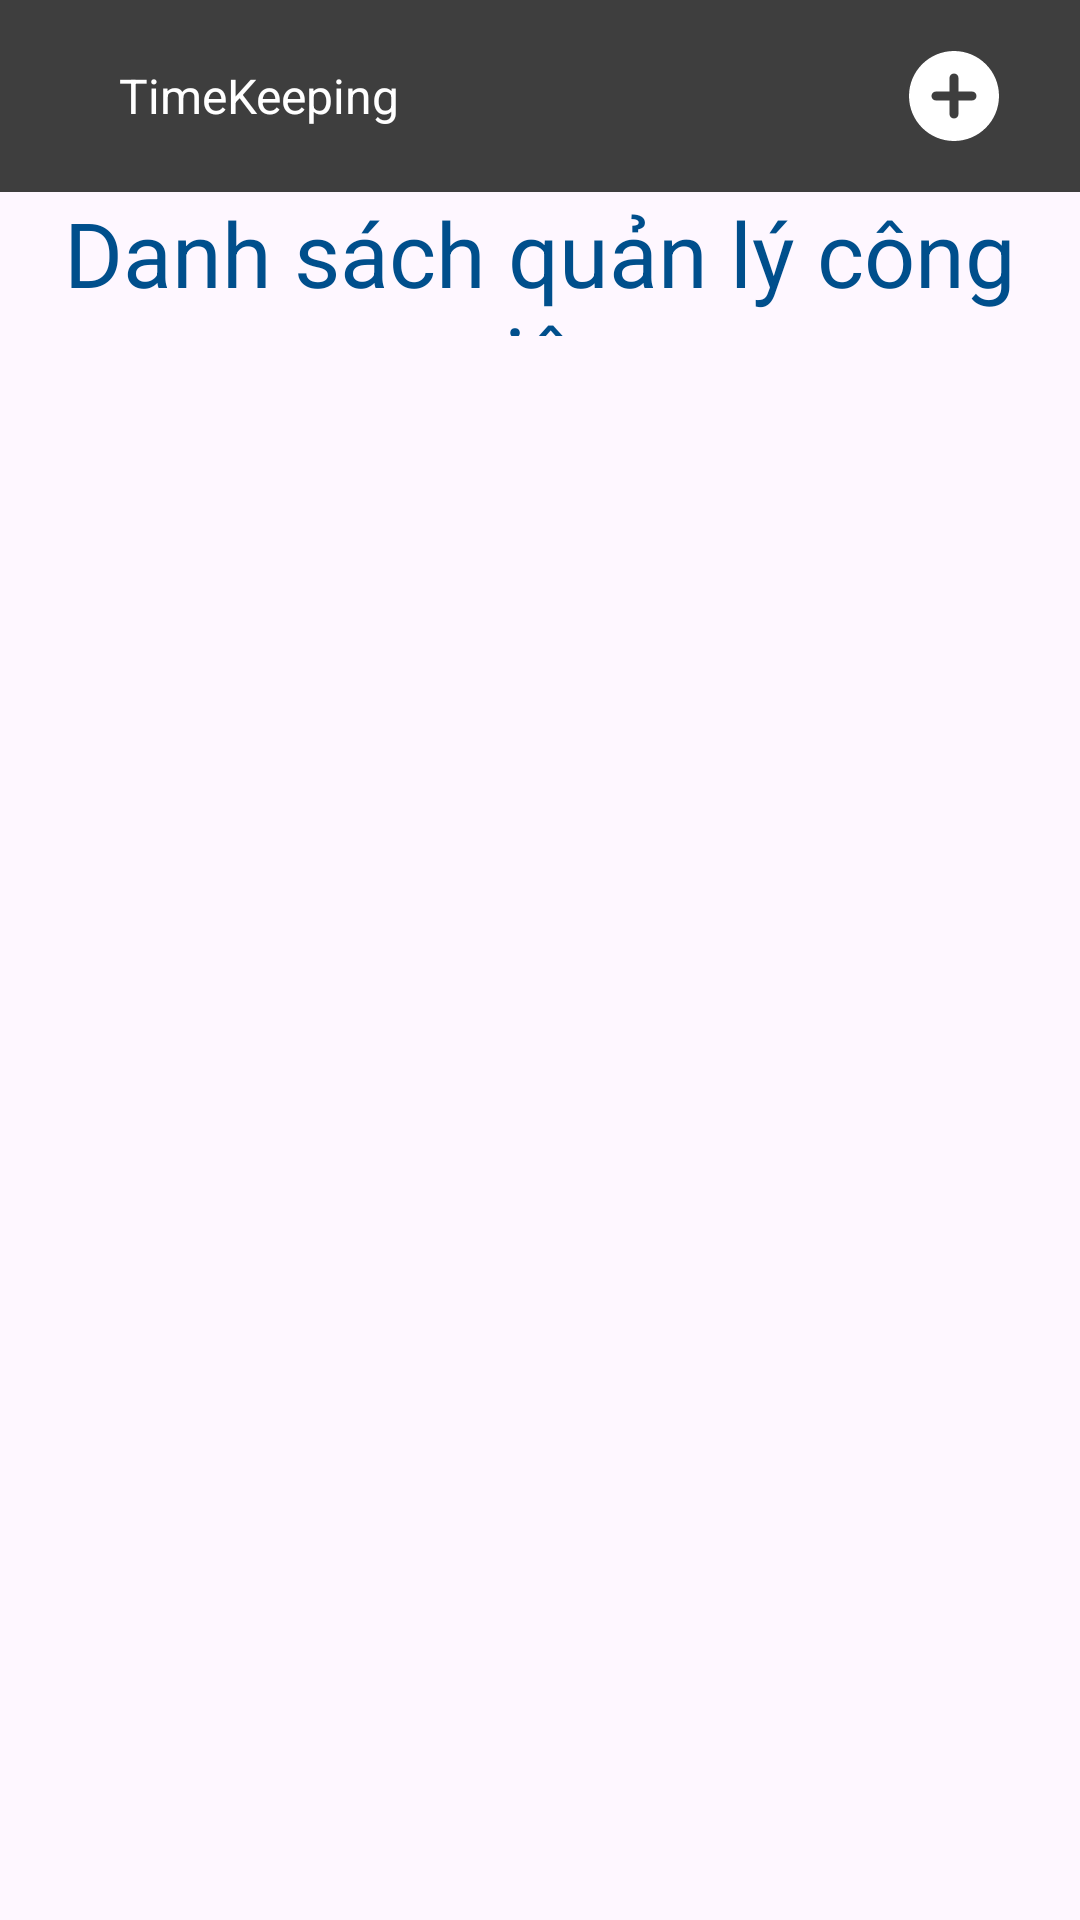

Named icons in this screenshot (1080 x 1920) and their centers, point (x, y):
add circle: point (954, 96)
